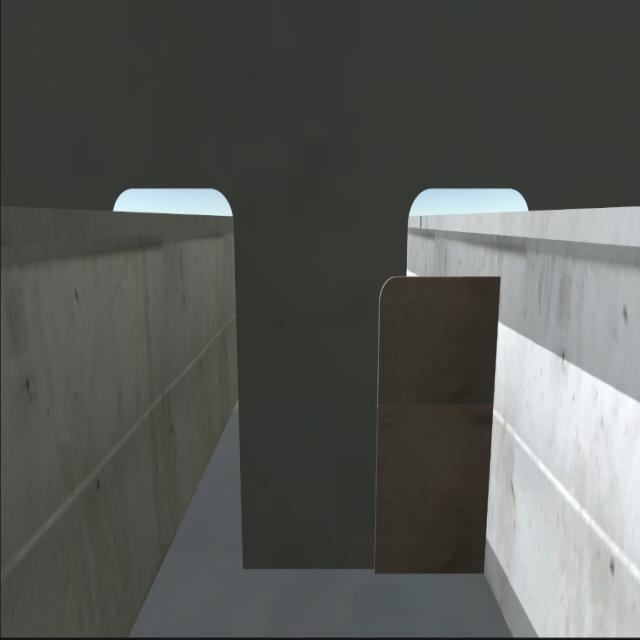fillet_yong_jeop_jang: (241, 556, 498, 585)
longi_yong_jeop_jang: (481, 268, 501, 578)
plate_CP05: (373, 276, 485, 575)
